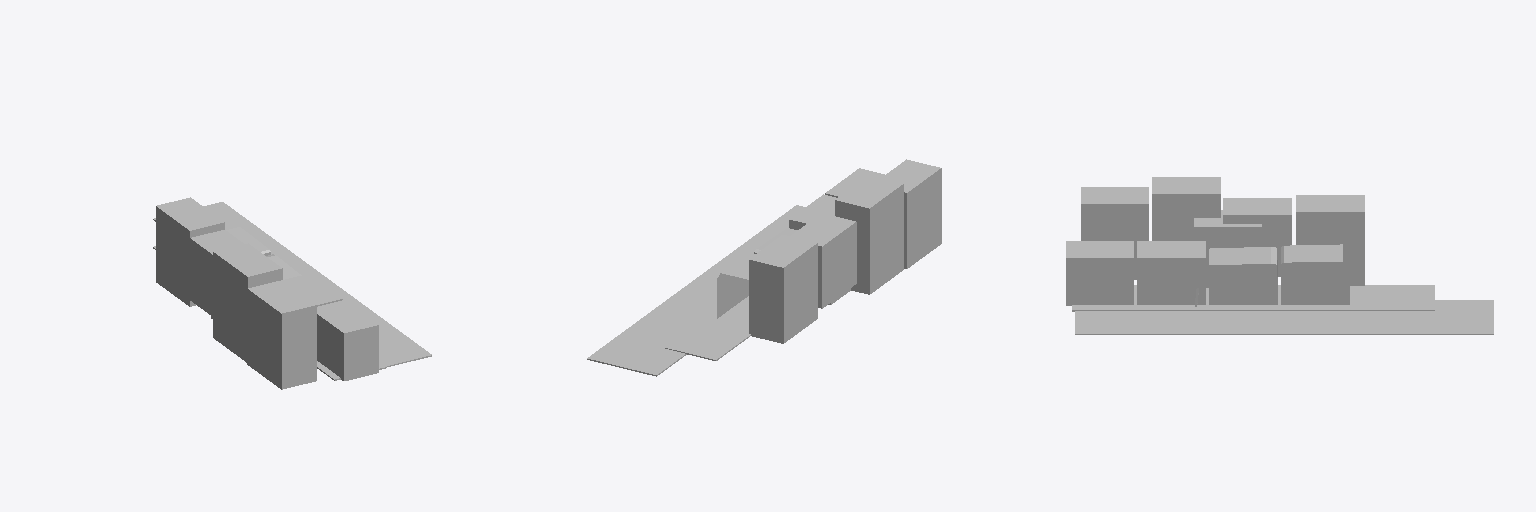
File: tempBG.obj
3 renders of one model, left to right at view 1: azimuth 30°, elevation 25°; view 2: azimuth 150°, elevation 25°; view 3: azimuth 270°, elevation 25°, orthographic.
Visible parts, largest first — view 1: Cube.007, Cube.006, Cube.011, Cube.010, Cube.002, Cube.008, Cube.001; view 2: Cube.002, Cube.010, Cube.006, Cube.007, Cube.008, Cube, Cube.009, Cube.001, Cube.011; view 3: Cube.002, Cube.001, Cube.011, Cube.009, Cube.010, Cube, Cube.003, Cube.006, Cube.007, Cube.008, Cube.005.
Part boxes in pixels (bbox=[...]): Cube.007: bbox=[247, 280, 316, 389]; Cube.006: bbox=[213, 243, 282, 362]; Cube.011: bbox=[317, 300, 378, 380]; Cube.010: bbox=[156, 197, 224, 306]; Cube.002: bbox=[153, 202, 431, 366]; Cube.008: bbox=[190, 230, 243, 316]; Cube.001: bbox=[283, 274, 342, 306]; Cube.002: bbox=[587, 205, 805, 376]; Cube.010: bbox=[749, 235, 817, 343]; Cube.006: bbox=[835, 175, 903, 294]; Cube.007: bbox=[882, 159, 941, 268]; Cube.008: bbox=[791, 213, 856, 308]; Cube: bbox=[664, 296, 750, 360]; Cube.009: bbox=[717, 253, 754, 318]; Cube.001: bbox=[789, 194, 836, 229]; Cube.011: bbox=[825, 168, 884, 197]; Cube.002: bbox=[1075, 300, 1493, 334]; Cube.001: bbox=[1137, 241, 1205, 304]; Cube.011: bbox=[1066, 241, 1133, 305]; Cube.009: bbox=[1281, 244, 1349, 304]; Cube.010: bbox=[1296, 195, 1364, 285]; Cube: bbox=[1072, 285, 1434, 311]; Cube.003: bbox=[1209, 247, 1277, 304]; Cube.006: bbox=[1152, 177, 1220, 240]; Cube.007: bbox=[1081, 187, 1148, 279]; Cube.008: bbox=[1223, 198, 1291, 276]; Cube.005: bbox=[1194, 210, 1261, 287].
Bounding box in the file's own units: 647 × 362 × 1623.